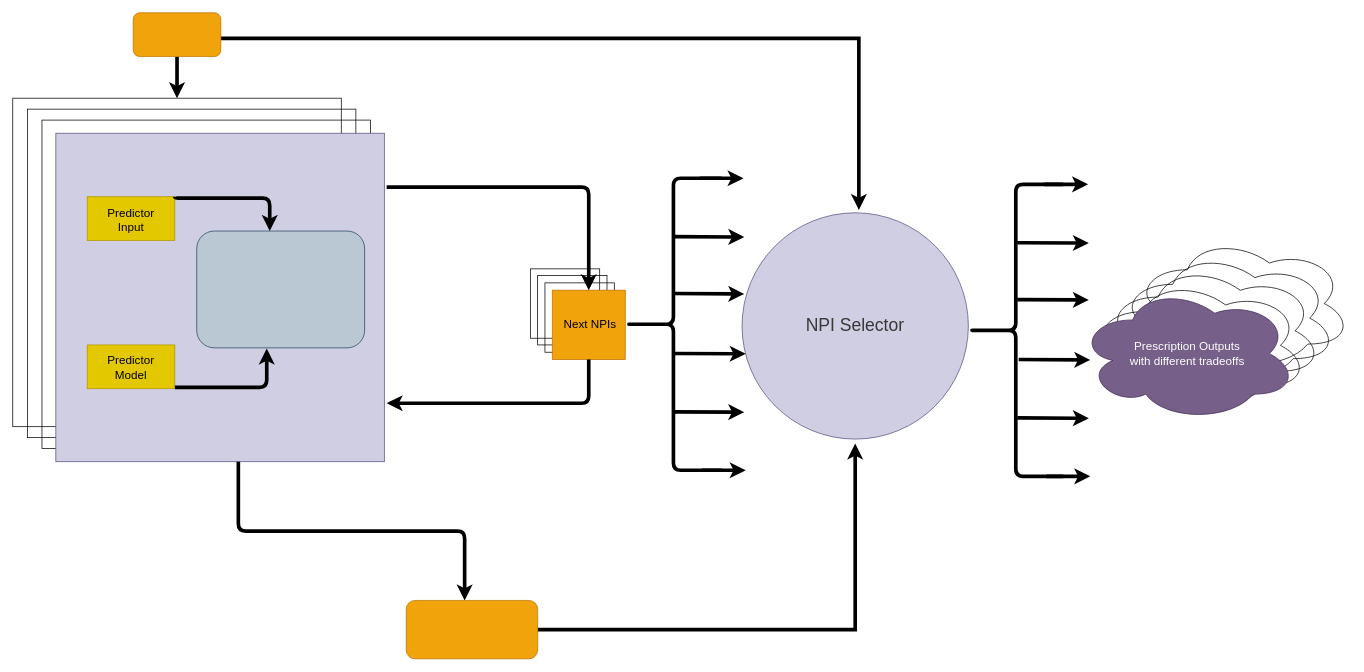
Image size: 1364x672. Some labels were removed from this diagram. Each missing label, with the centre of its shape:
"Maximized NPIs" goes at (472,629).
"Prescriptor" goes at (280,289).
"Zero NPIs" goes at (176,34).
